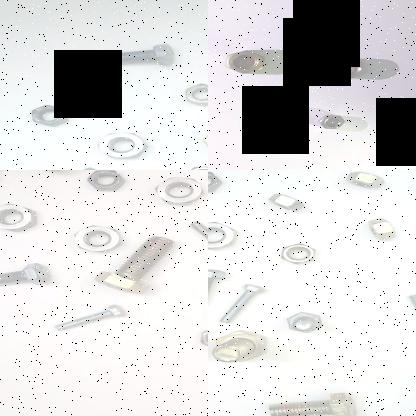Bolts: (94, 237, 176, 295), (44, 296, 126, 340), (98, 38, 180, 74), (209, 328, 280, 369), (260, 390, 364, 416), (212, 282, 266, 324), (0, 261, 53, 290), (279, 313, 335, 339), (181, 218, 208, 262), (208, 265, 226, 311), (189, 120, 208, 161), (404, 291, 416, 341)
NUTS: (95, 126, 147, 164), (67, 222, 123, 256), (150, 173, 208, 205), (261, 188, 313, 218), (347, 216, 397, 244), (219, 49, 268, 77), (0, 202, 40, 235), (25, 104, 72, 132), (337, 170, 394, 192), (272, 242, 320, 268), (208, 220, 242, 252), (79, 170, 125, 193), (329, 57, 369, 81), (177, 80, 208, 110), (316, 113, 346, 133), (208, 170, 227, 196), (196, 326, 208, 352)
